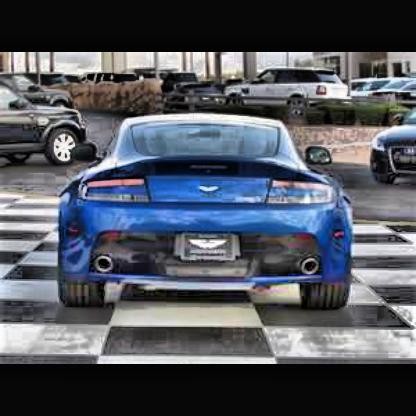Aston Martin V8 Vantage Coupe 2012: (56, 99, 363, 323)
